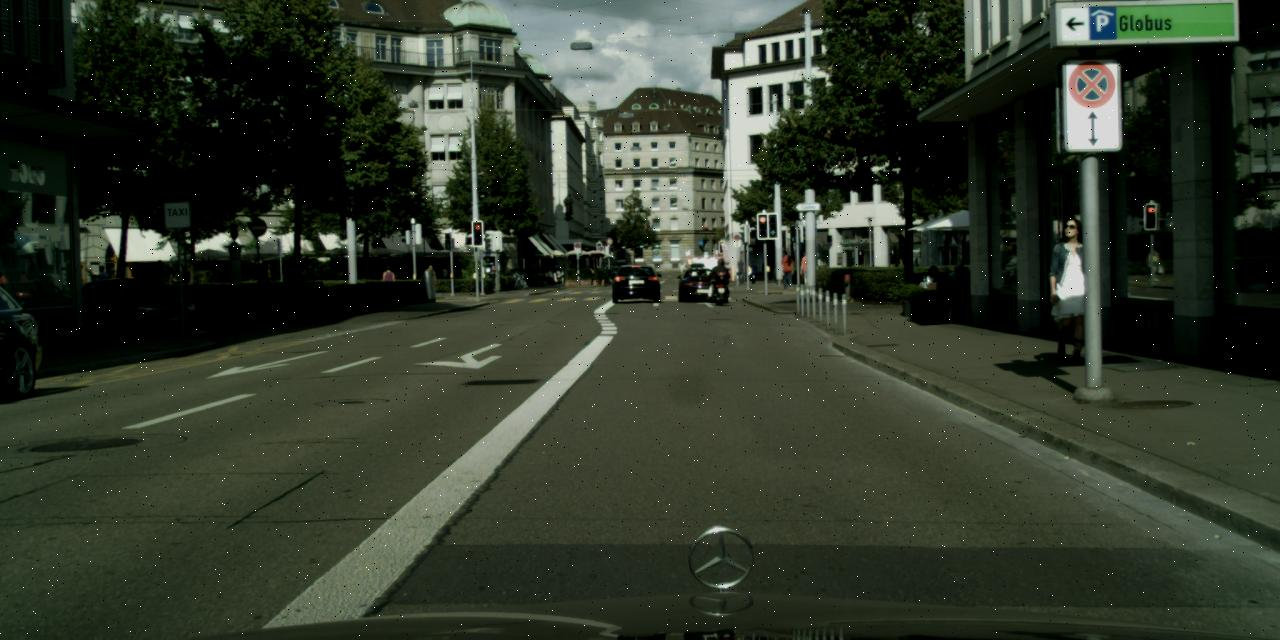ped: (1041, 217, 1101, 361), (150, 259, 172, 314), (92, 264, 111, 310), (132, 262, 150, 306), (712, 257, 728, 299), (778, 249, 794, 290), (798, 250, 814, 290), (423, 264, 438, 300), (381, 264, 396, 300), (736, 257, 746, 283), (761, 256, 771, 282), (440, 264, 450, 289), (748, 261, 756, 283)
